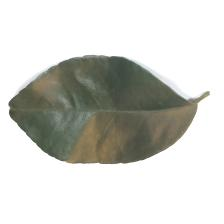healthy: (14, 65, 182, 152)
